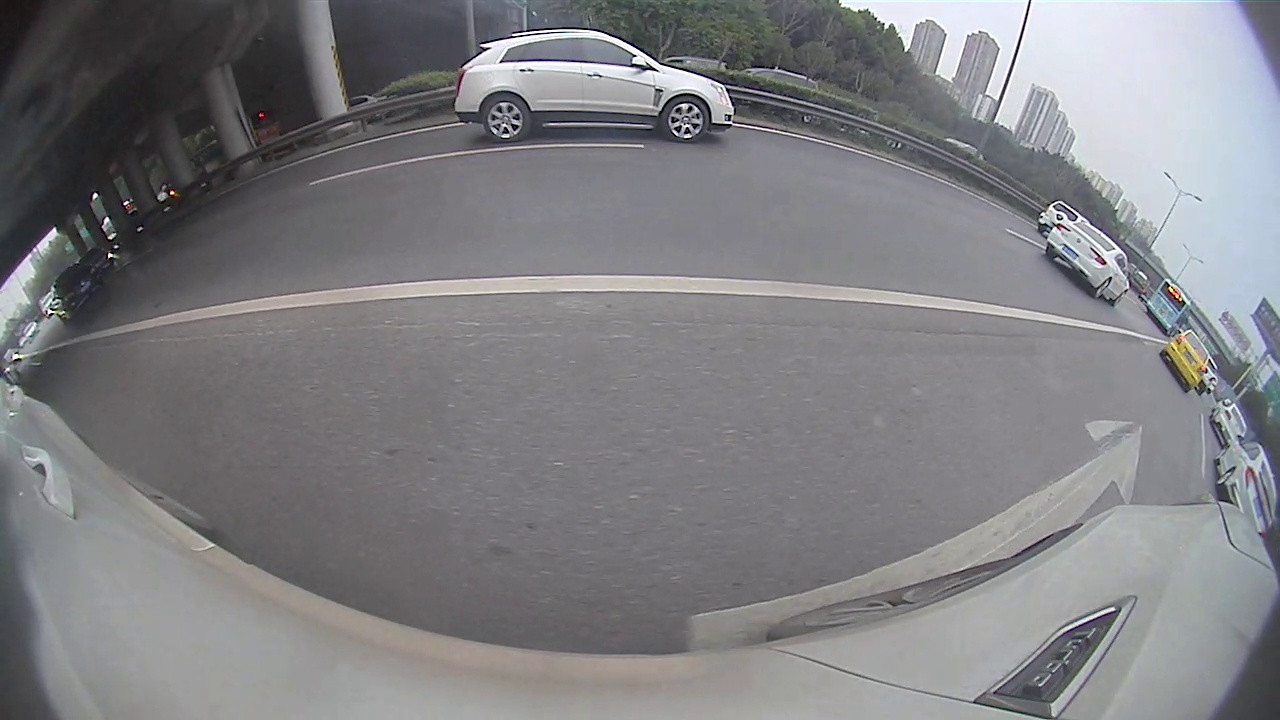car: (455, 27, 736, 145), (1046, 219, 1130, 307), (1215, 439, 1275, 534), (1162, 330, 1211, 394), (50, 264, 101, 322)
front: (666, 91, 710, 145), (1113, 291, 1128, 307)
rear: (478, 90, 531, 145), (1214, 468, 1233, 490), (1093, 279, 1109, 300)
